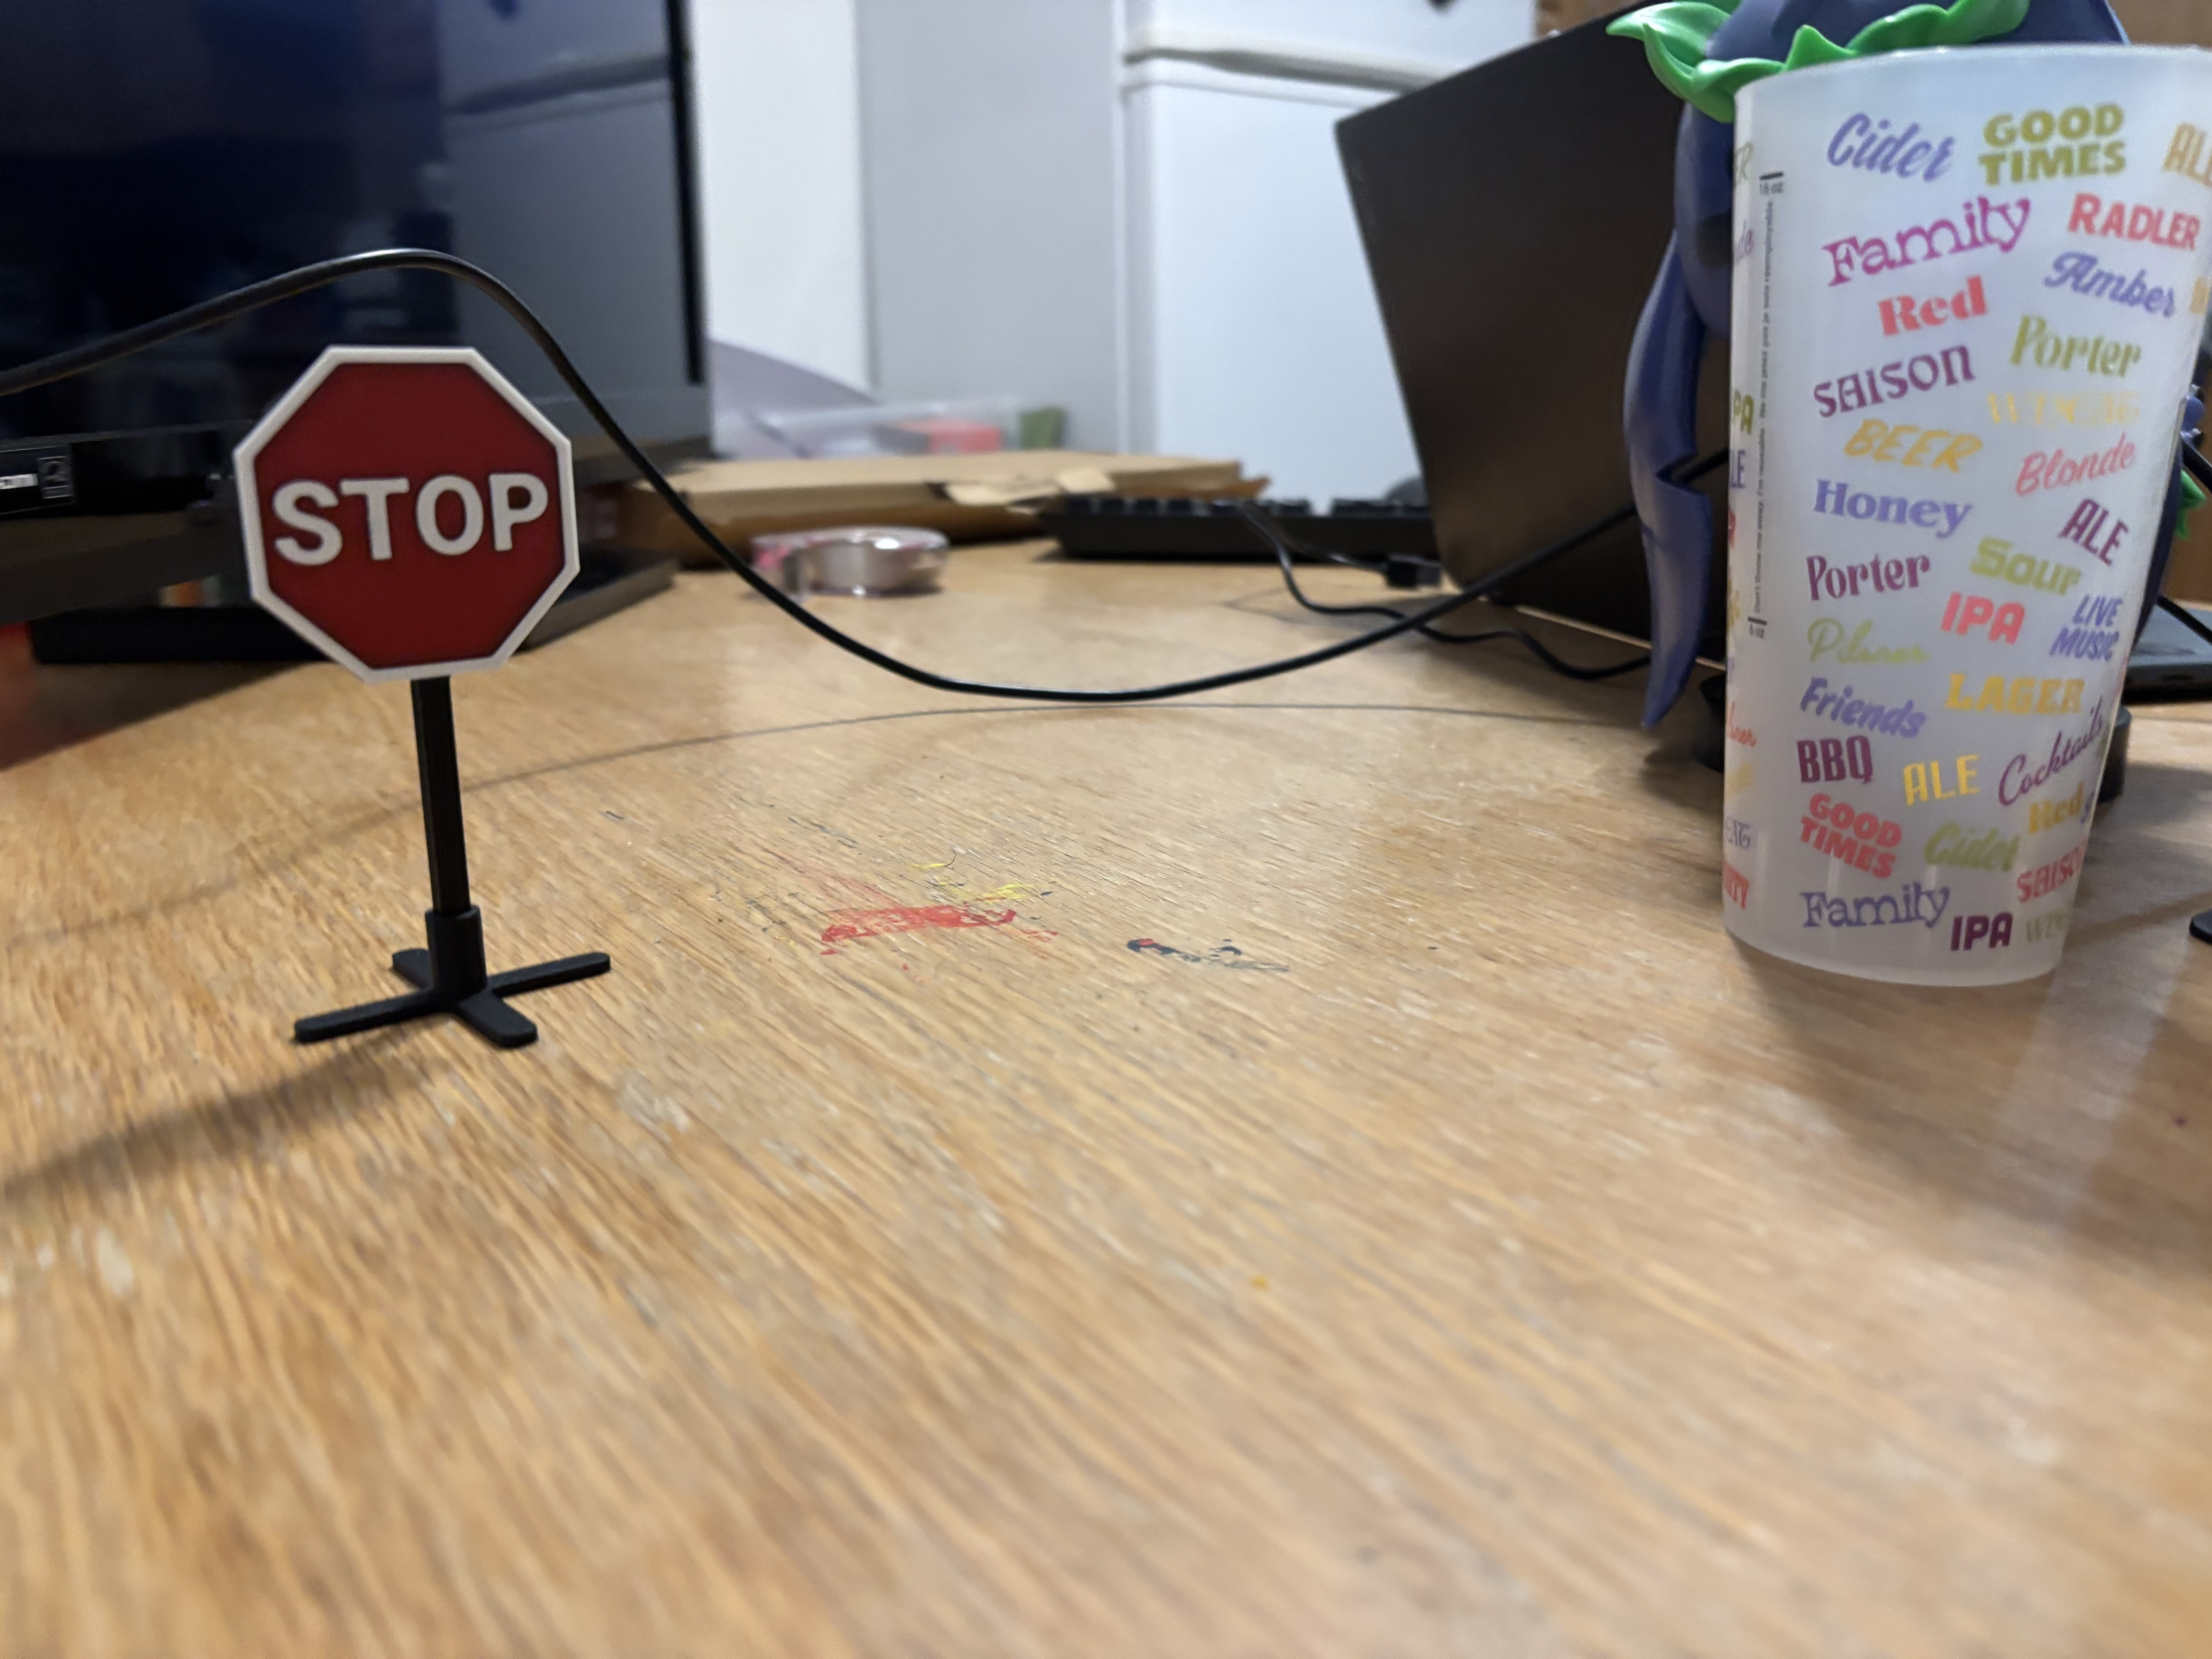sign_stop: (209, 331, 582, 701)
